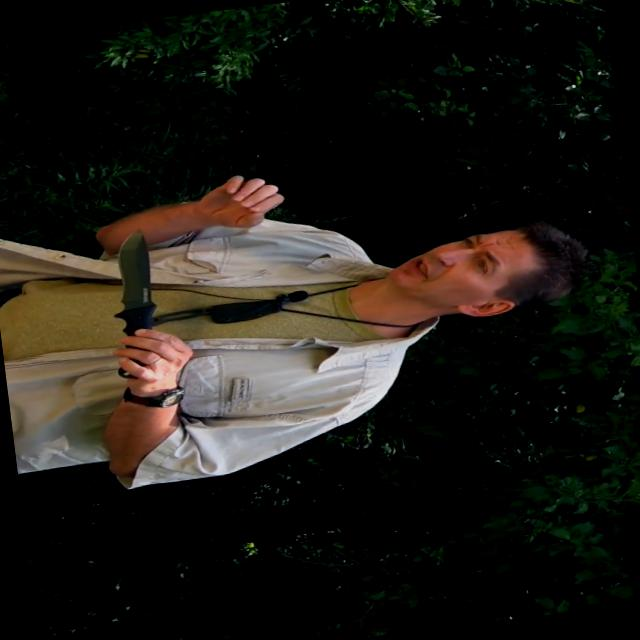knife: (95, 220, 196, 382)
